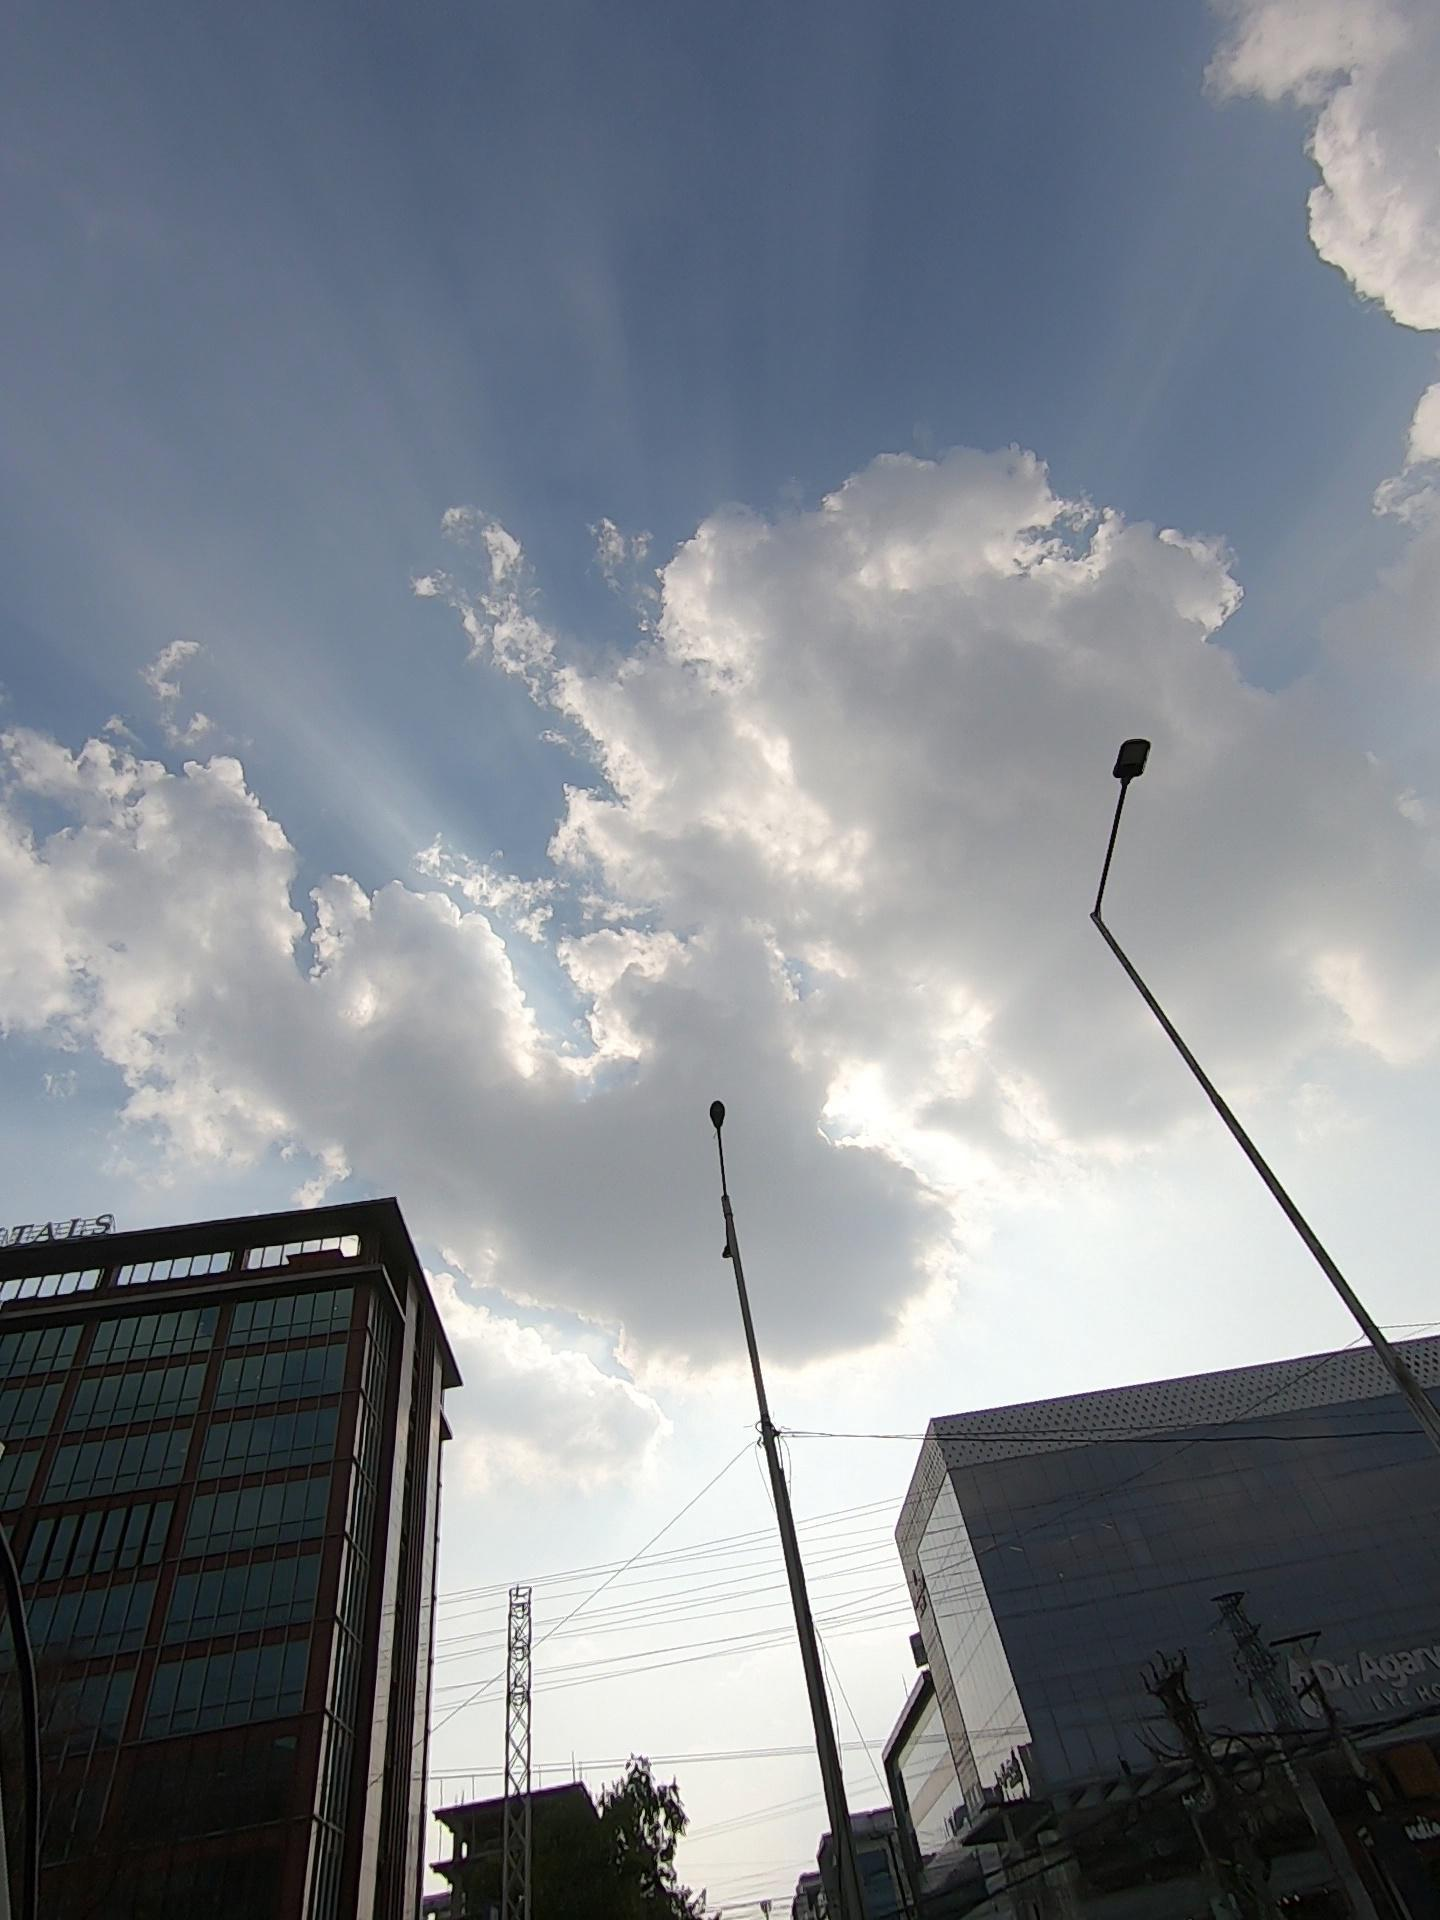off: (675, 966, 895, 1300), (980, 717, 1207, 1016)
